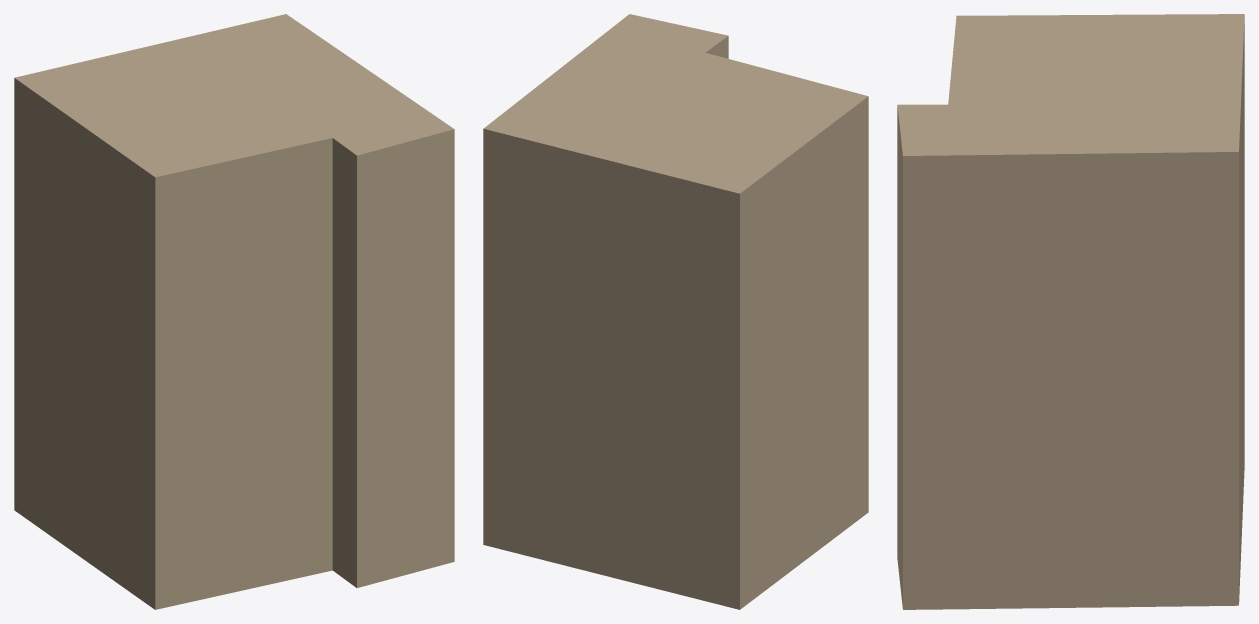
Rendered from bld_98821442.dae.
3 views of the same model, side by side, from view 1: azimuth 30°, elevation 25°; view 2: azimuth 150°, elevation 25°; view 3: azimuth 270°, elevation 25° (orthographic). The views are drawn at different scales.
Parts seen in each view (by area): view 1: bld_98821442; view 2: bld_98821442; view 3: bld_98821442.
Boxes of the visible parts, bbox=[...] form: bld_98821442: bbox=[14, 14, 454, 609]; bld_98821442: bbox=[483, 14, 868, 609]; bld_98821442: bbox=[897, 14, 1244, 609].
Size of the model in its own units: 5.37 by 5.55 by 8.
